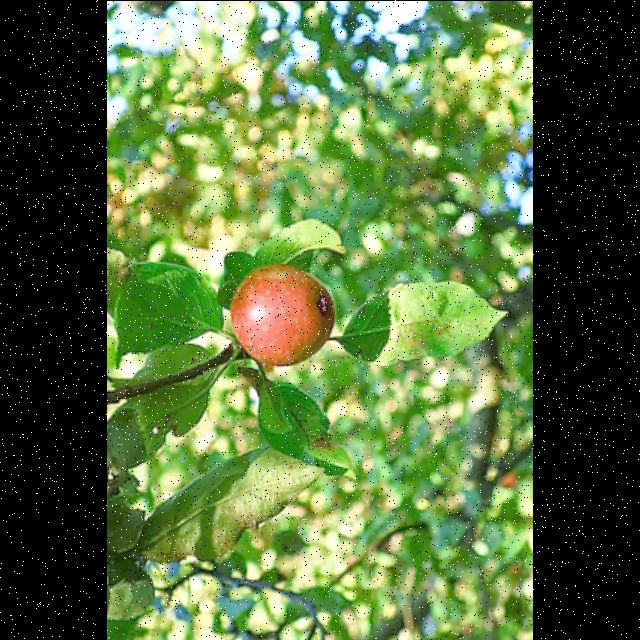Apel Segar: (231, 256, 351, 372)
